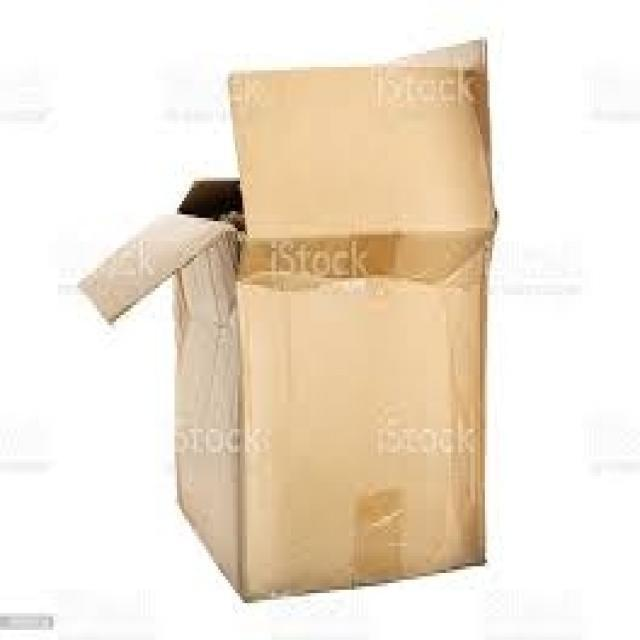cardboard paper: (174, 40, 493, 597), (229, 40, 491, 236)
